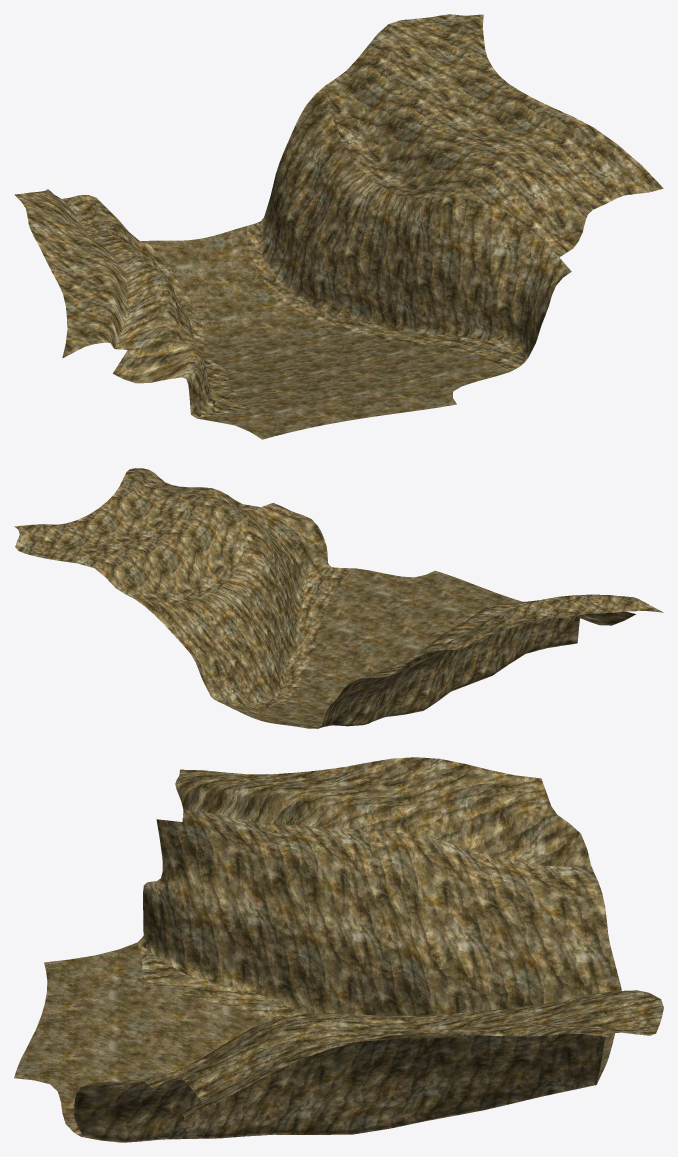
File: RM_PLAYSURFACE_FINAL_OBJECT01.obj
3 renders of one model, top to bottom at view 1: azimuth 30°, elevation 25°; view 2: azimuth 150°, elevation 25°; view 3: azimuth 270°, elevation 25°, orthographic. The views are drawn at different scales.
Visible parts, largest first — view 1: Object01; view 2: Object01; view 3: Object01.
Boxes of the visible parts, left/top/right/bottom form: Object01: left=14, top=14, right=663, bottom=439; Object01: left=14, top=468, right=663, bottom=728; Object01: left=14, top=757, right=663, bottom=1142.
Size of the model in its own units: 5458 by 1609 by 3967.
